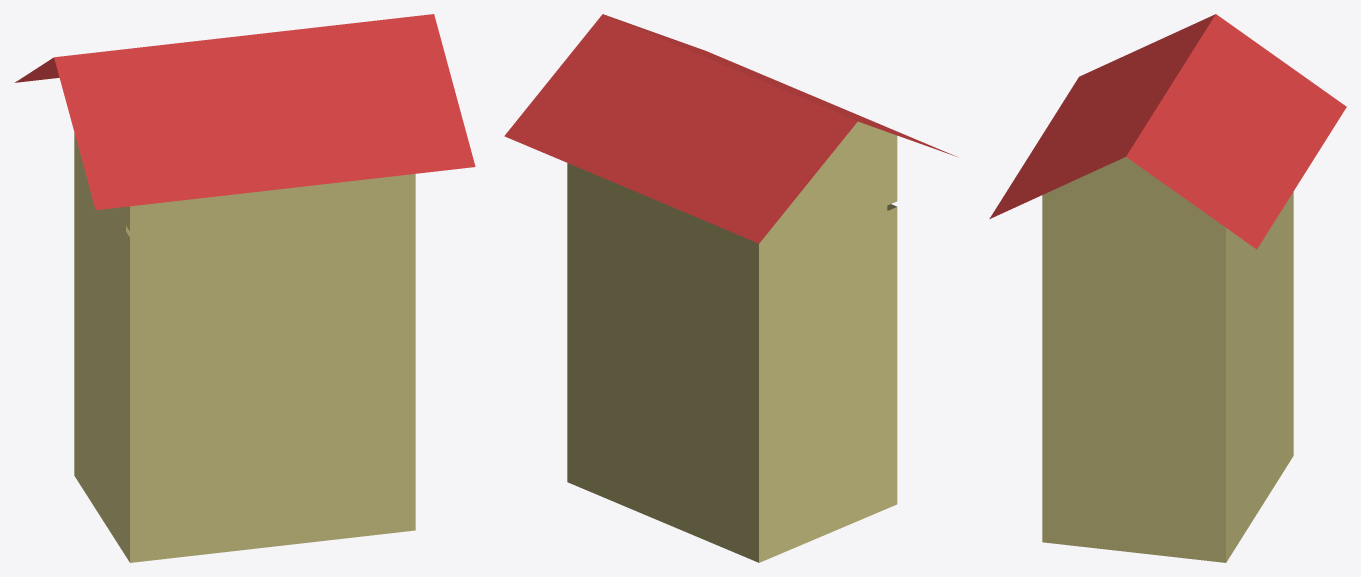
3 renders of one model, left to right at view 1: azimuth 30°, elevation 25°; view 2: azimuth 150°, elevation 25°; view 3: azimuth 270°, elevation 25°, orthographic. The views are drawn at different scales.
Bounding box in the file's own units: 7.06 × 6.18 × 7.89.
